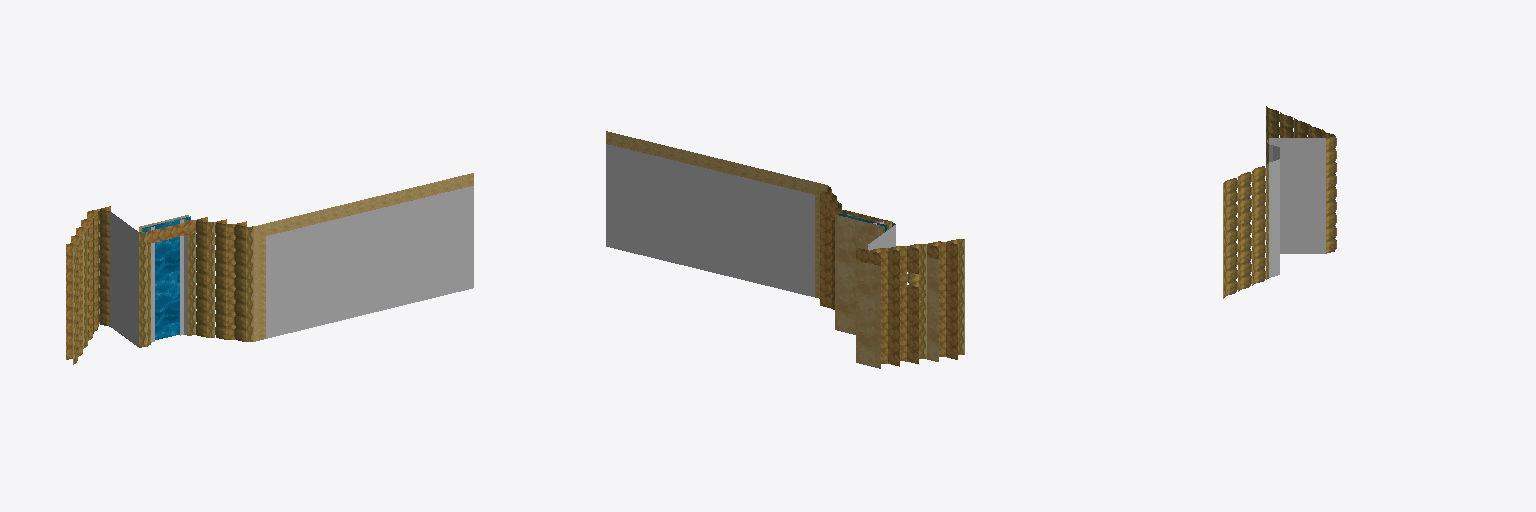
3 renders of one model, left to right at view 1: azimuth 30°, elevation 25°; view 2: azimuth 150°, elevation 25°; view 3: azimuth 270°, elevation 25°, orthographic.
Parts seen in each view (by area): view 1: map; view 2: map; view 3: map.
Part boxes in pixels (x1,y1,x2,y2): map: (66,173,473,364); map: (606,131,964,368); map: (1223,106,1336,298).
Bounding box in the file's own units: 31 × 9 × 8.
11 materials, 7 textured.